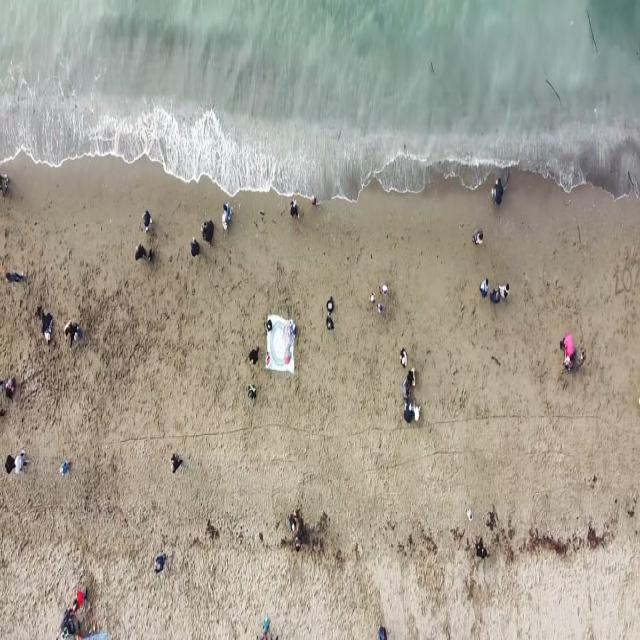humans: (63, 319, 83, 350), (72, 584, 90, 615), (498, 280, 514, 307), (4, 267, 26, 286), (471, 225, 486, 252), (168, 452, 184, 477), (12, 450, 30, 472), (493, 175, 504, 209), (401, 400, 413, 427), (59, 458, 72, 481), (479, 274, 490, 301), (246, 382, 258, 406), (141, 208, 153, 232), (222, 201, 234, 224), (412, 399, 423, 424), (378, 278, 390, 300), (248, 346, 260, 368), (3, 451, 15, 473), (490, 286, 502, 307), (153, 556, 167, 574), (135, 242, 145, 266), (401, 380, 412, 401), (405, 370, 420, 385), (464, 504, 474, 526), (400, 347, 409, 371), (290, 196, 298, 220), (325, 316, 335, 332), (376, 301, 385, 317), (266, 318, 274, 334), (369, 290, 376, 308), (147, 246, 154, 264)
